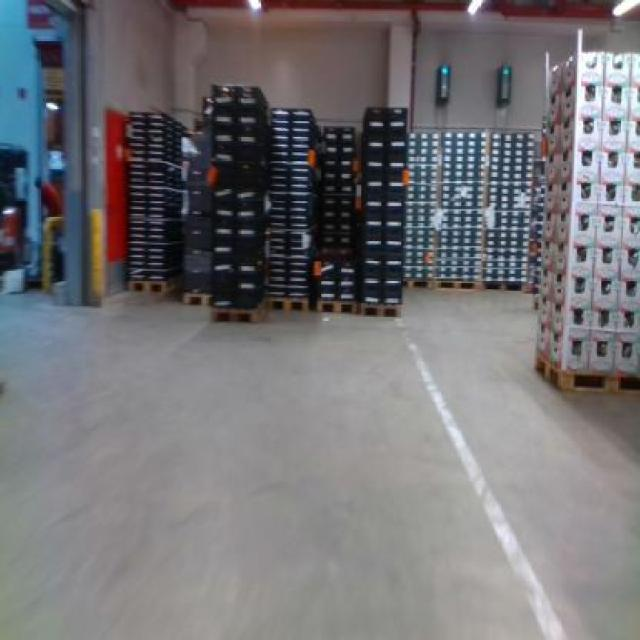pallet: (529, 345, 640, 403), (353, 296, 411, 326), (124, 270, 182, 298), (209, 303, 268, 329), (311, 294, 362, 320), (436, 275, 486, 297), (258, 294, 316, 312)
